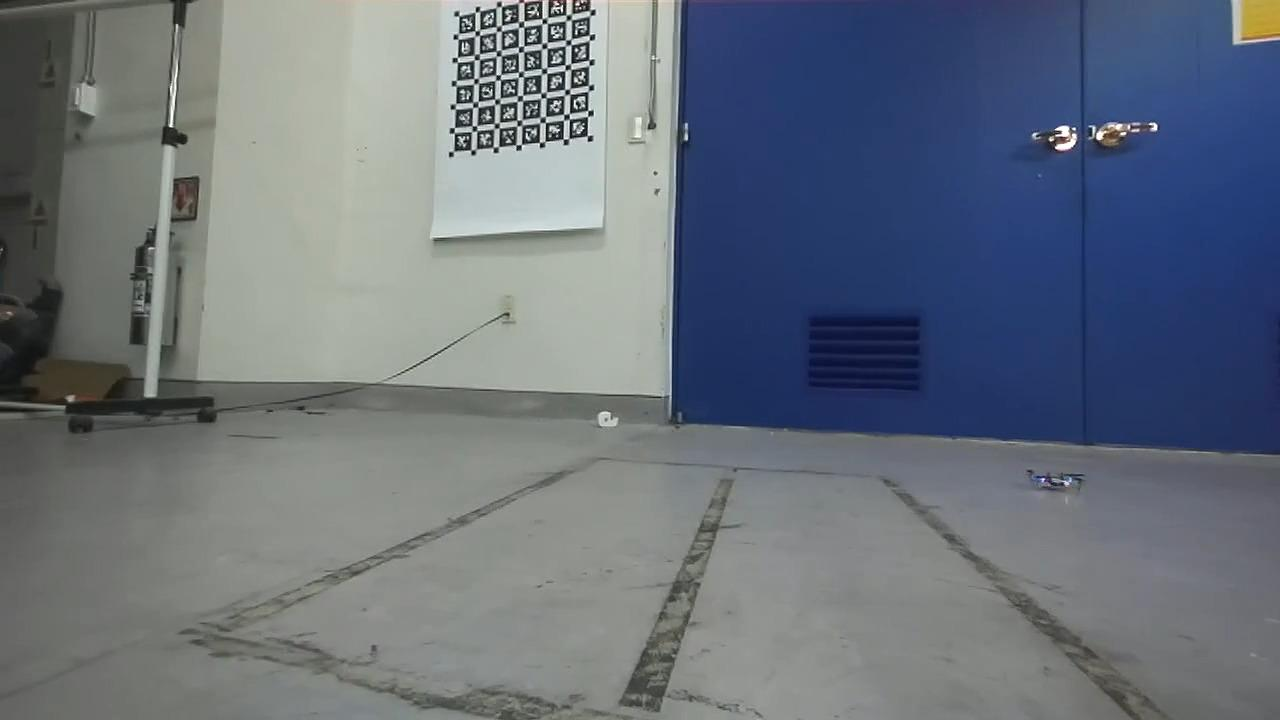crazyflie: (1024, 464, 1087, 497)
